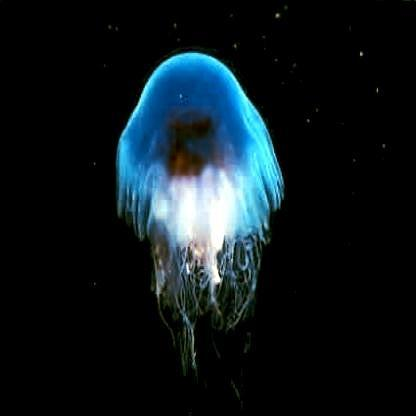GoldThorn: (115, 49, 285, 364)
